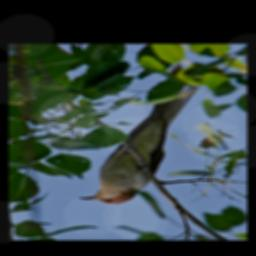Cuckoo: (78, 62, 203, 205)
